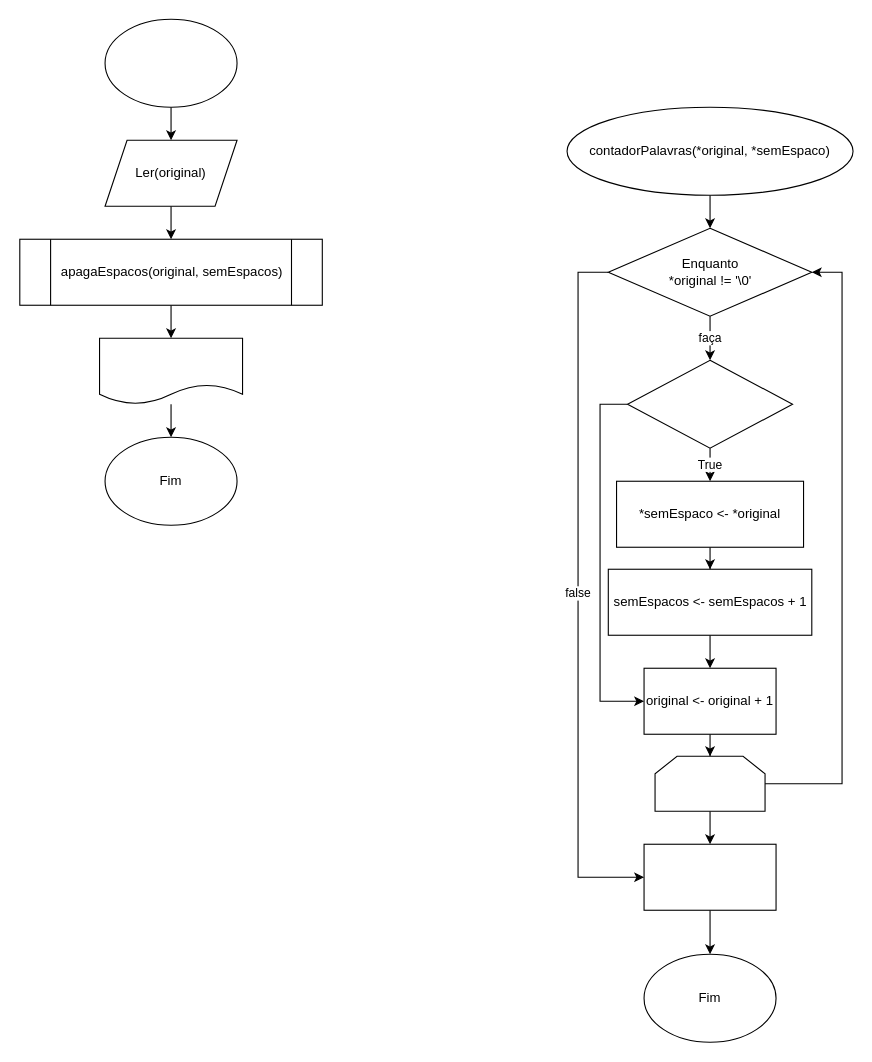
This 872x1062 diagram has some shape labels left out. The shapes that lost their labels are listed below. From the top down, each one's box as (x1, y1, x2, y2) in pixels, then its label:
(104, 18, 237, 107): Inicio
(98, 337, 243, 404): Escrever(semEspaco)
(626, 359, 793, 448): Se *original = ' '
(654, 755, 765, 811): Repetir
(643, 843, 776, 910): *semEspaco <- '\0'
